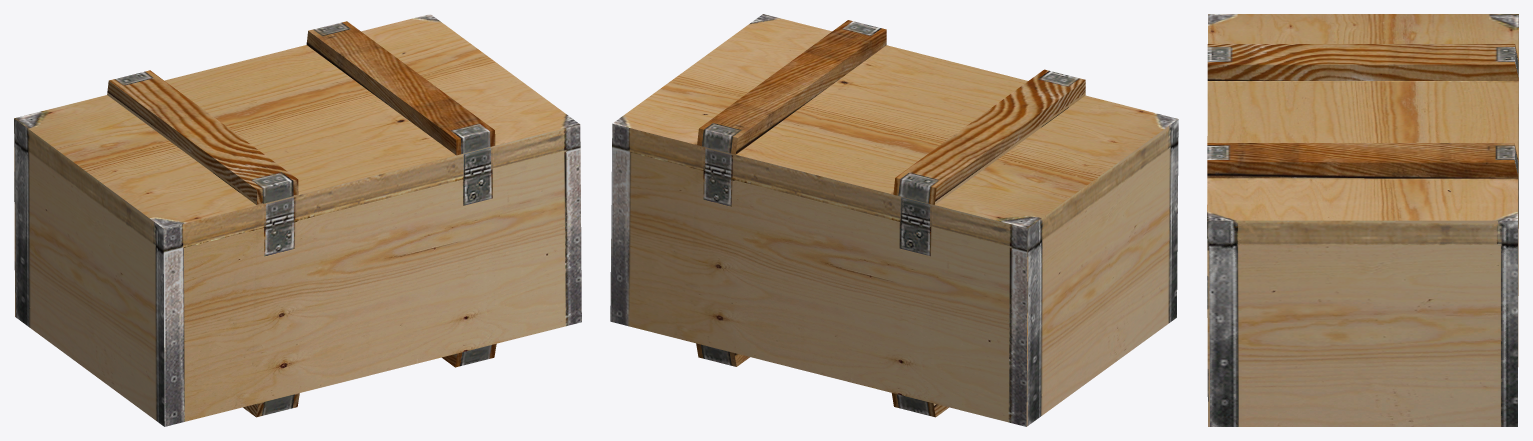
The model's file is Crate_Box.glb.
3 renders of one model, left to right at view 1: azimuth 30°, elevation 25°; view 2: azimuth 150°, elevation 25°; view 3: azimuth 270°, elevation 25°, orthographic. The views are drawn at different scales.
Parts seen in each view (by area): view 1: Crate_Box; view 2: Crate_Box; view 3: Crate_Box.
Part boxes in pixels (x1,y1,x2,y2): Crate_Box: (14, 14, 581, 426); Crate_Box: (610, 14, 1178, 426); Crate_Box: (1207, 14, 1518, 426).
Bounding box in the file's own units: 2.41 × 1.28 × 1.5.
1 material, 1 textured.
